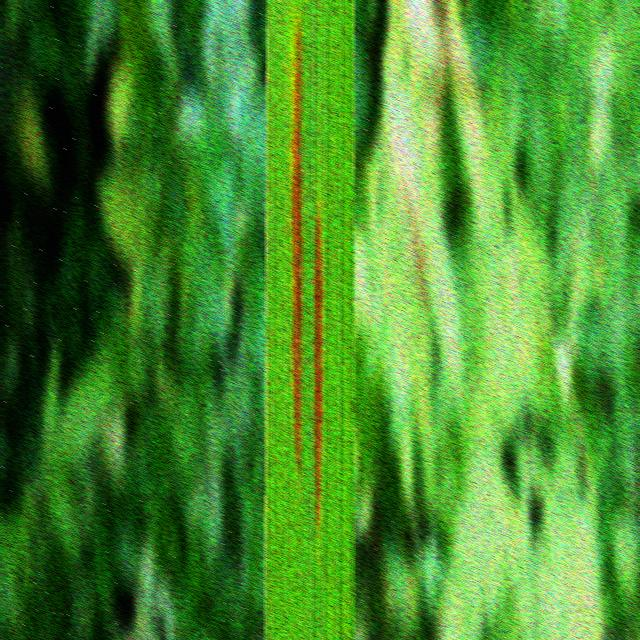NBS: (290, 22, 302, 472), (313, 208, 323, 525)
